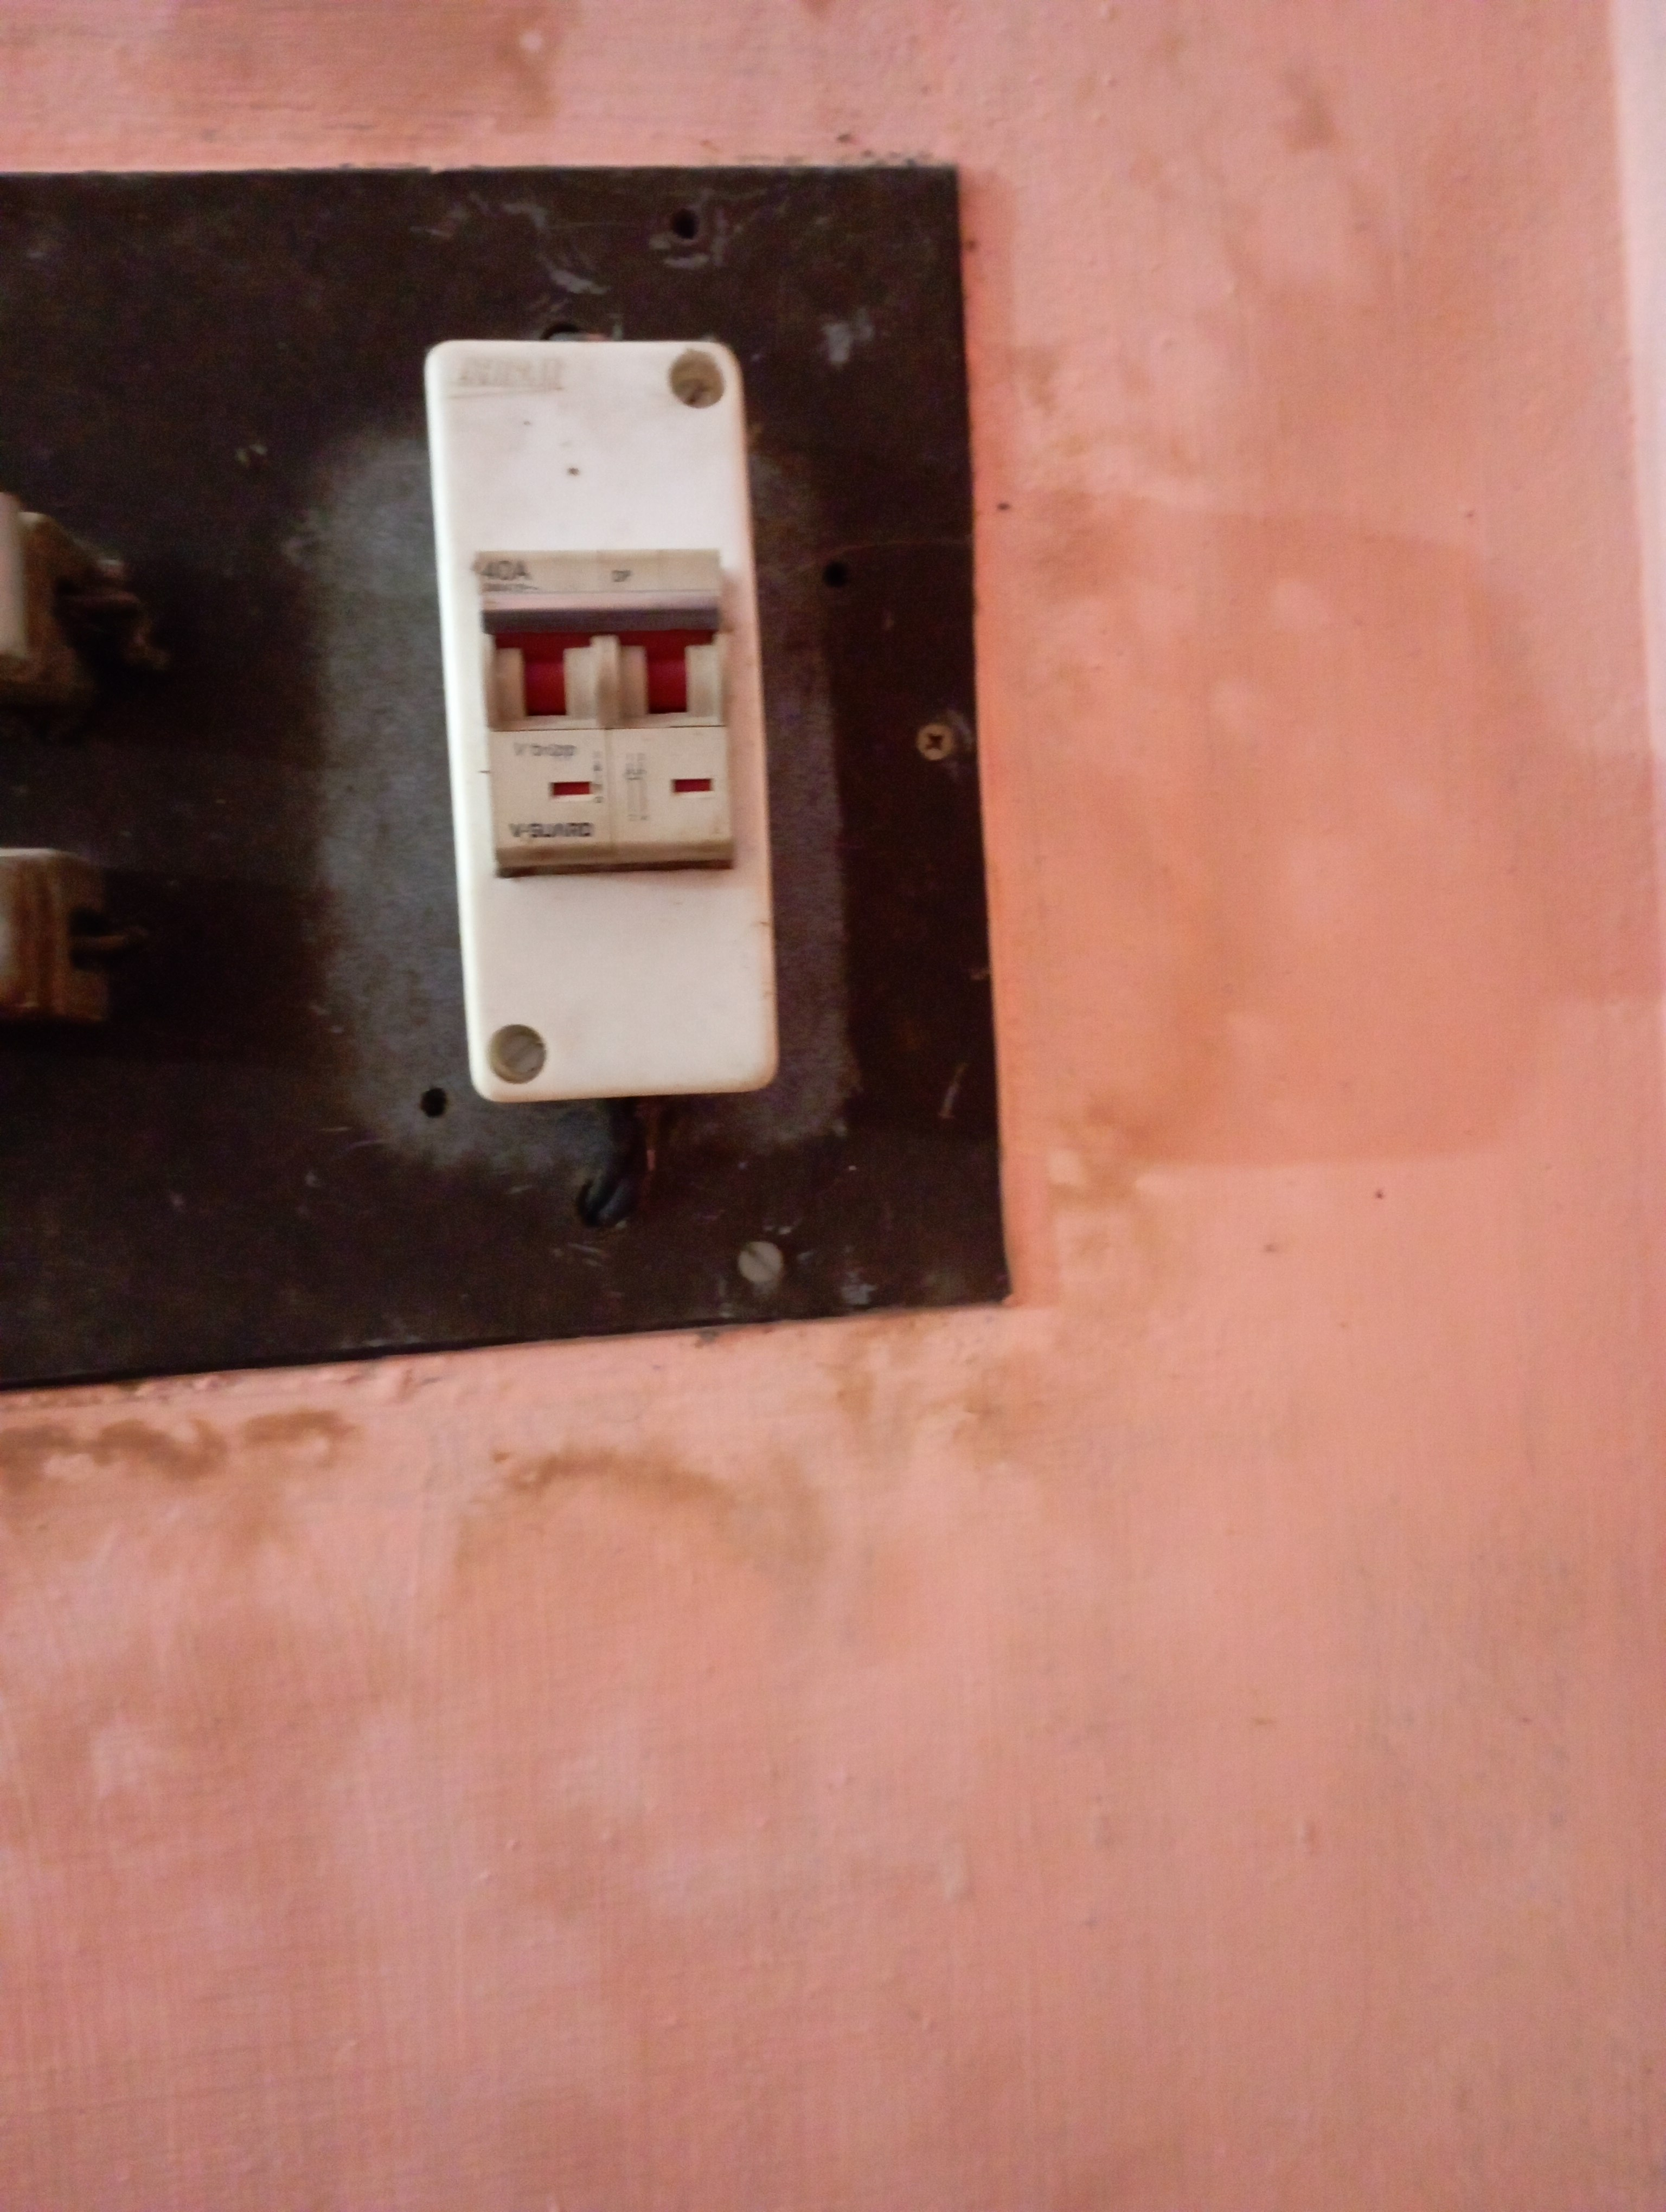ciruit_breaker: (392, 336, 801, 1145)
fuse: (0, 811, 145, 1061), (0, 472, 142, 687)
